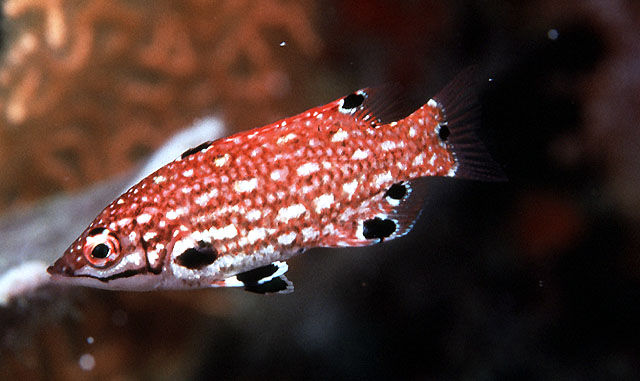fish: (49, 71, 489, 296)
